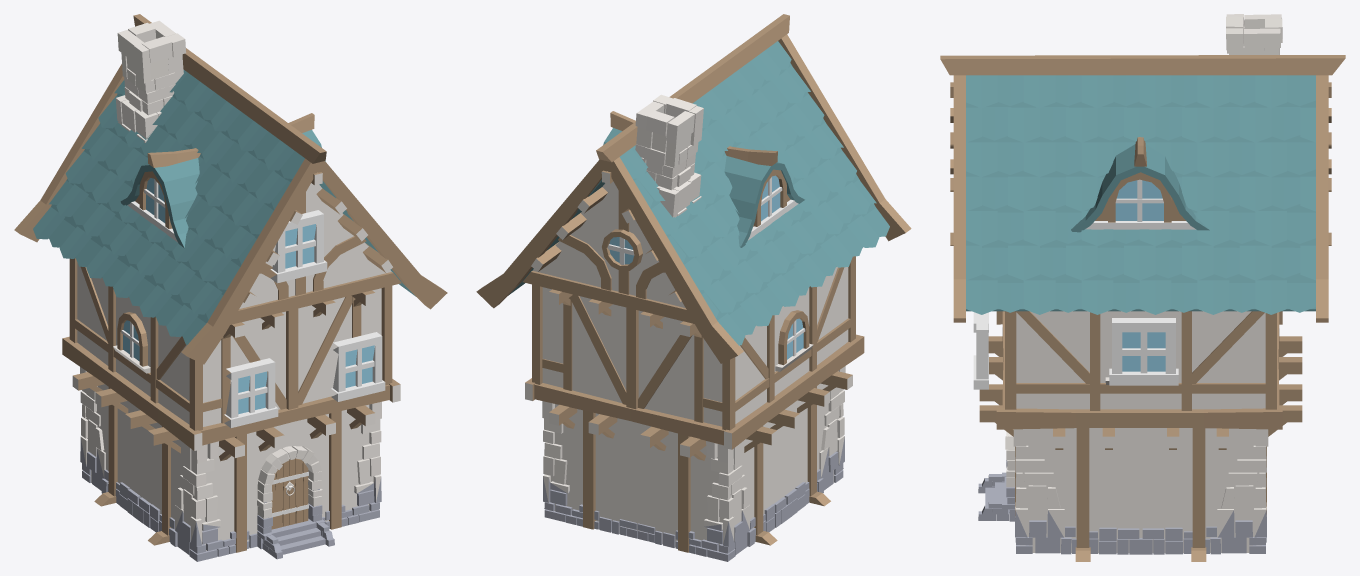
Rendered from v7-hus-fantasy-quaternius-fix.glb.
3 views of the same model, side by side, from view 1: azimuth 30°, elevation 25°; view 2: azimuth 150°, elevation 25°; view 3: azimuth 270°, elevation 25° (orthographic). The views are drawn at different scales.
Visible parts, largest first — view 1: House_Fantasy, Window_1, Window_3, Window_2; view 2: House_Fantasy; view 3: House_Fantasy, Window_Side, Window_3.
Part boxes in pixels (left/top/right/bottom): House_Fantasy: left=14, top=14, right=447, bottom=561; Window_1: left=224, top=358, right=278, bottom=427; Window_3: left=331, top=332, right=385, bottom=401; Window_2: left=270, top=210, right=327, bottom=283; House_Fantasy: left=476, top=14, right=911, bottom=561; House_Fantasy: left=940, top=14, right=1345, bottom=561; Window_Side: left=1109, top=318, right=1178, bottom=385; Window_3: left=973, top=312, right=988, bottom=389.
Bounding box in the file's own units: 2.14 × 3.39 × 2.66.
